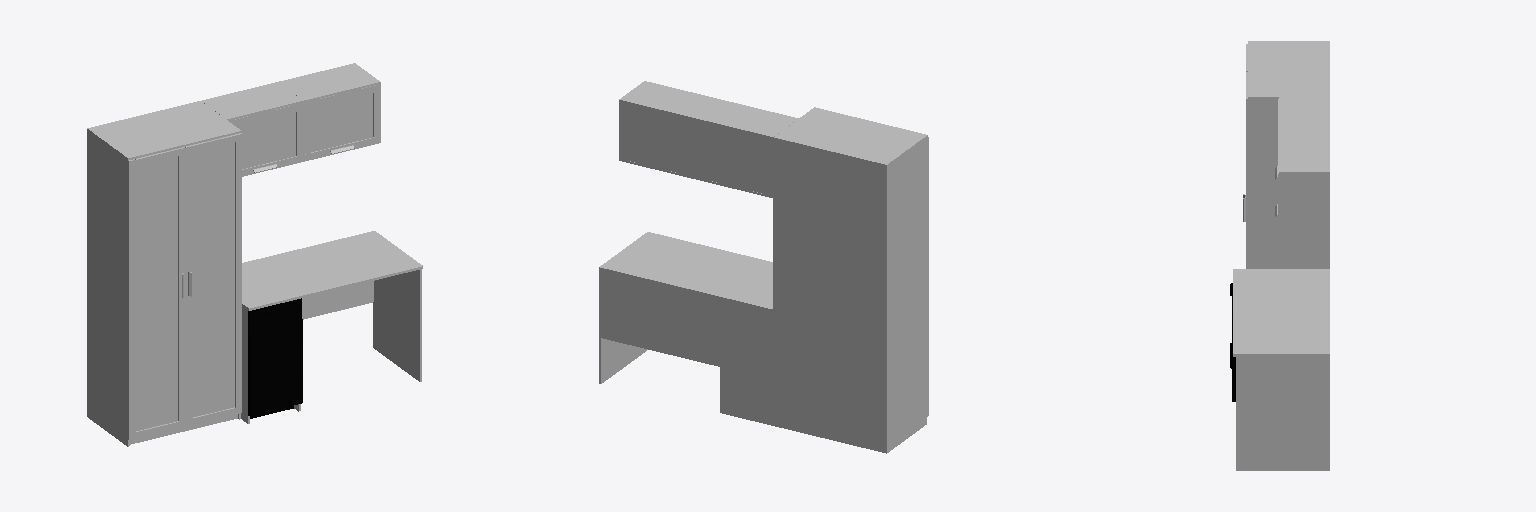
File: BRIMNEScomplect.obj
3 renders of one model, left to right at view 1: azimuth 30°, elevation 25°; view 2: azimuth 150°, elevation 25°; view 3: azimuth 270°, elevation 25°, orthographic.
Visible parts, largest first — view 1: Cube.006_Cube.007, Cube.005_Cube.006, Cube.009_Cube.019, Cube.001_Cube.005, Cube.012_Cube.022, Cube.002_Cube.008; view 2: Cube.006_Cube.007, Cube.005_Cube.006, Cube.009_Cube.019; view 3: Cube.005_Cube.006, Cube.006_Cube.007, Cube.009_Cube.019.
Part boxes in pixels (left/top/right/bottom): Cube.006_Cube.007: left=87, top=101, right=241, bottom=446; Cube.005_Cube.006: left=241, top=231, right=422, bottom=423; Cube.009_Cube.019: left=202, top=63, right=380, bottom=168; Cube.001_Cube.005: left=128, top=147, right=185, bottom=440; Cube.012_Cube.022: left=304, top=84, right=380, bottom=161; Cube.002_Cube.008: left=229, top=103, right=303, bottom=176; Cube.006_Cube.007: left=773, top=107, right=927, bottom=453; Cube.005_Cube.006: left=599, top=232, right=772, bottom=425; Cube.009_Cube.019: left=619, top=81, right=798, bottom=197; Cube.005_Cube.006: left=1230, top=269, right=1329, bottom=470; Cube.006_Cube.007: left=1243, top=41, right=1329, bottom=268; Cube.009_Cube.019: left=1279, top=97, right=1329, bottom=232.
Size of the model in its own units: 3.96 by 3.8 by 1.19.